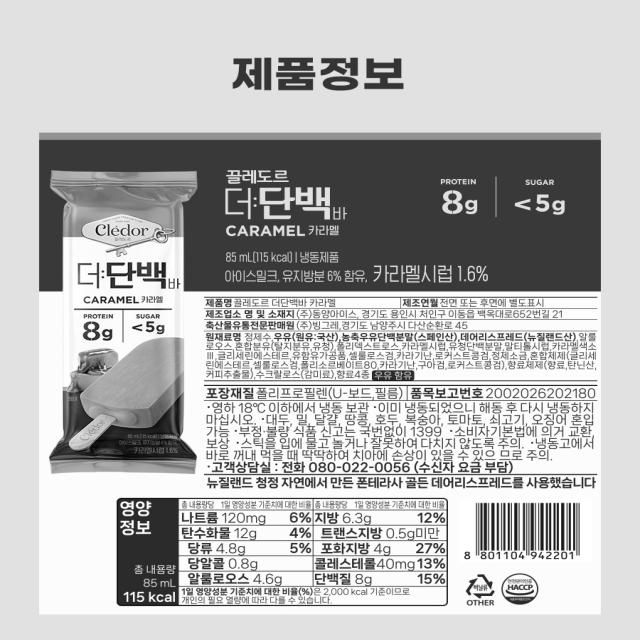Nutrition Label: (107, 489, 455, 615)
